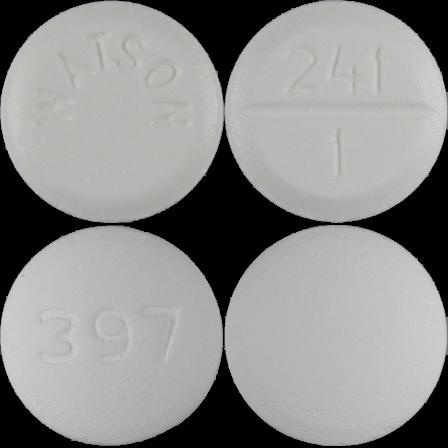75921-241: (0, 0, 224, 224)
